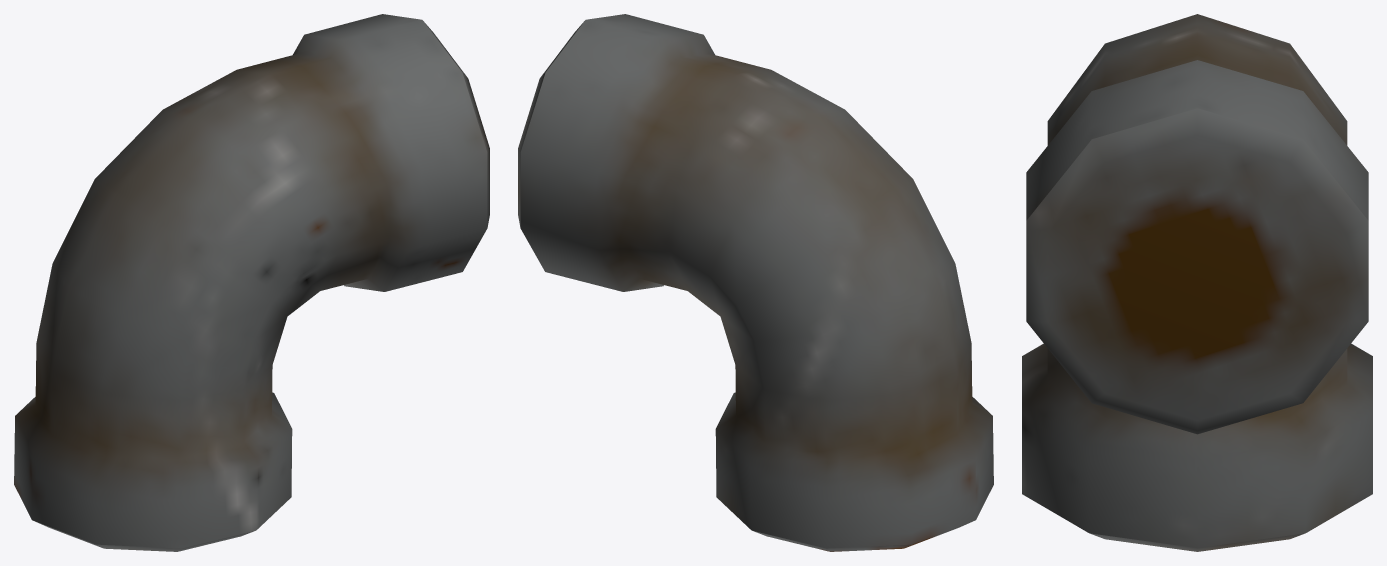
Rendered from SteelPipe_04a_snaps011.fbx.
The picture shows the model from 3 angles, left to right: view 1: azimuth 30°, elevation 25°; view 2: azimuth 150°, elevation 25°; view 3: azimuth 270°, elevation 25°; orthographic projection. The views are drawn at different scales.
Parts seen in each view (by area): view 1: SteelPipe_04a_snaps011_LOD0; view 2: SteelPipe_04a_snaps011_LOD0; view 3: SteelPipe_04a_snaps011_LOD0.
Part boxes in pixels (<box>): SteelPipe_04a_snaps011_LOD0: <box>14,14,489,551</box>; SteelPipe_04a_snaps011_LOD0: <box>518,14,993,551</box>; SteelPipe_04a_snaps011_LOD0: <box>1022,14,1372,551</box>.
Size of what is drawn, in the model's own units: 7.15 by 7.1 by 4.09.
